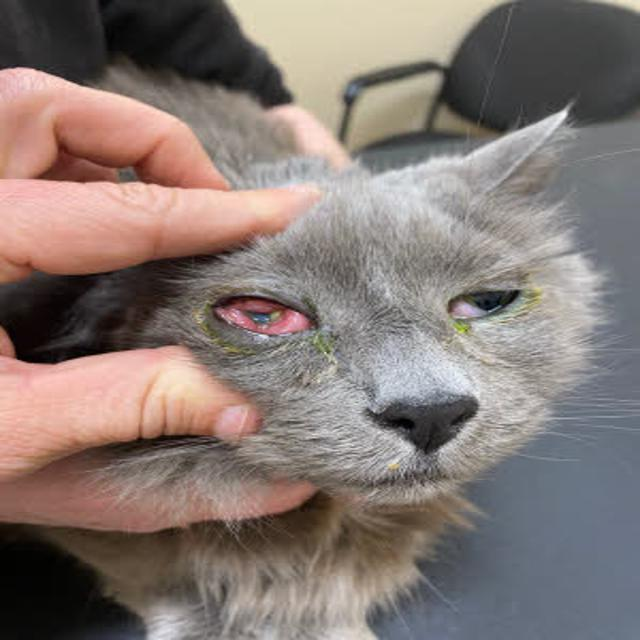eye_infection: (212, 288, 326, 351), (448, 286, 536, 322)
